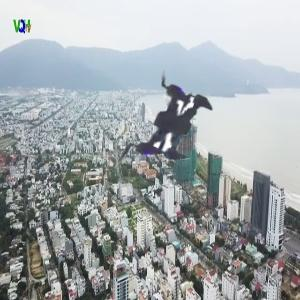drone: (64, 19, 271, 226)
